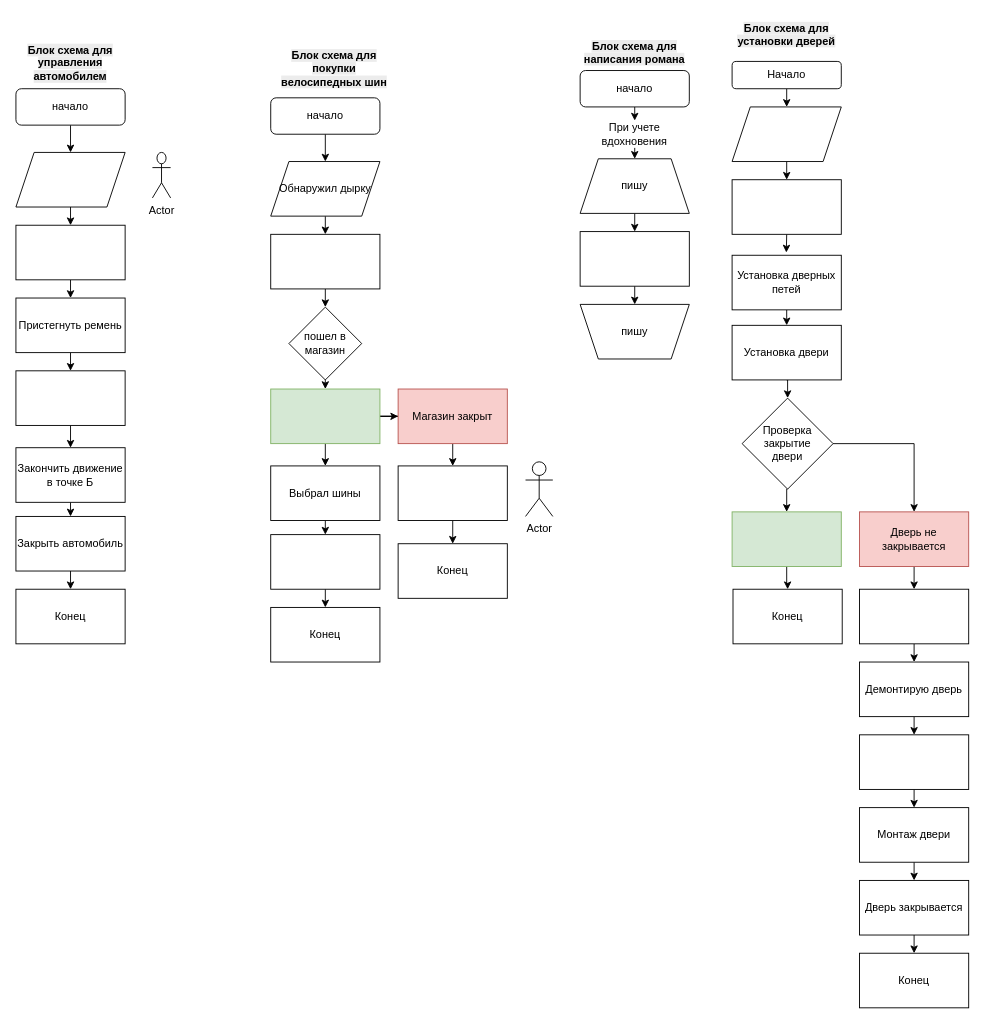
This 985x1024 diagram has some shape labels left out. The box of each missing label's shape, as (x1, y1, x2, y2) in pixels:
Верная установка петель: (859, 734, 969, 789)
Дверь закрвывая: (731, 511, 841, 566)
Заплатил: (270, 534, 380, 589)
Запуск автомобиля: (15, 224, 125, 280)
Измерить проем: (731, 106, 841, 162)
Магазин открыт: (270, 388, 380, 444)
Начать движение из точки А: (15, 370, 125, 425)
Нашел магазин в картах: (270, 233, 380, 289)
Открыли дверь: (15, 152, 125, 207)
Петли установлены не верно: (859, 588, 969, 644)
Плачу у порога: (397, 465, 507, 521)
редактирую: (579, 231, 689, 286)
Установка короба двери: (731, 179, 841, 234)
